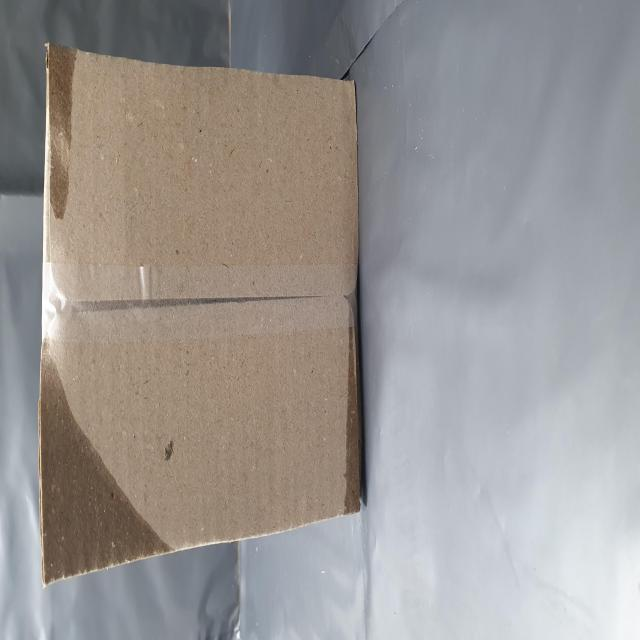wet: (34, 76, 323, 306)
